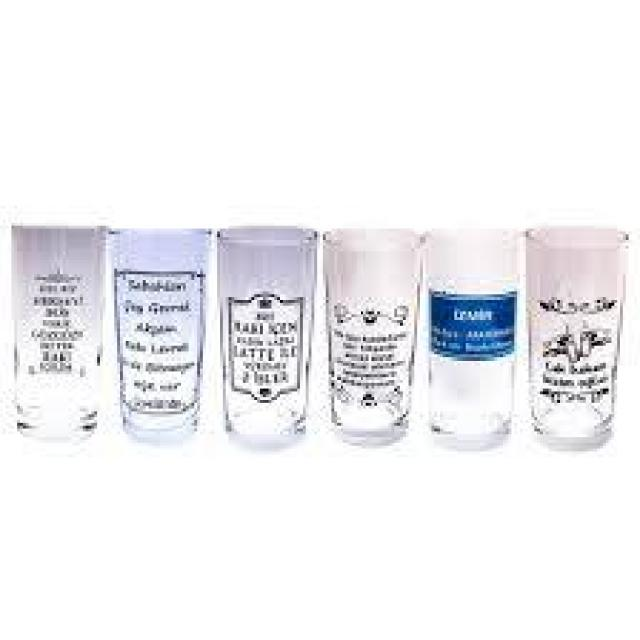non-organic waste: (316, 224, 424, 453), (108, 222, 212, 444), (218, 217, 318, 446), (527, 223, 627, 451), (424, 220, 522, 451), (7, 218, 107, 442)
